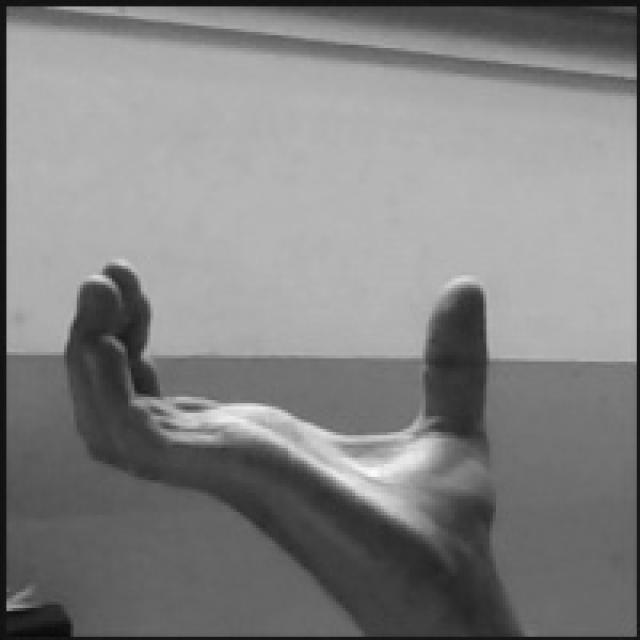space: (60, 256, 497, 569)
